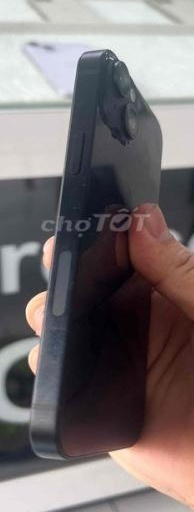scratch: (32, 234, 77, 412), (60, 168, 103, 210)
